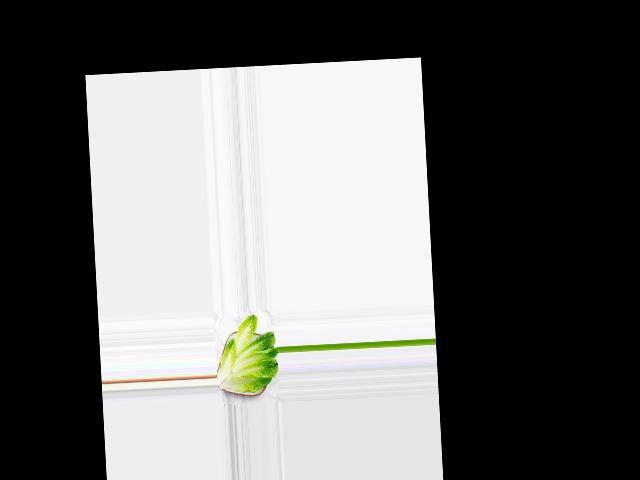lettuce: (215, 312, 281, 398)
